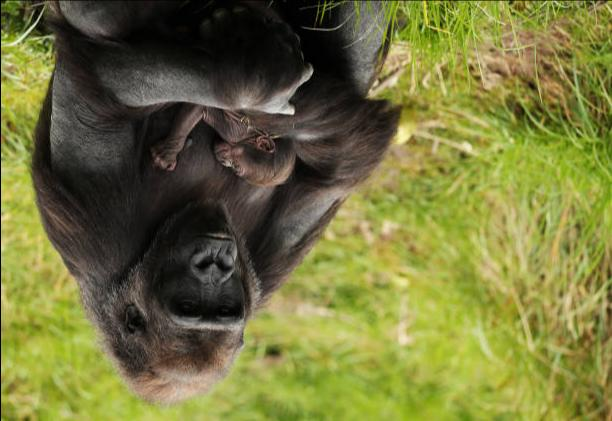gorille_Autres: (28, 0, 369, 420)
